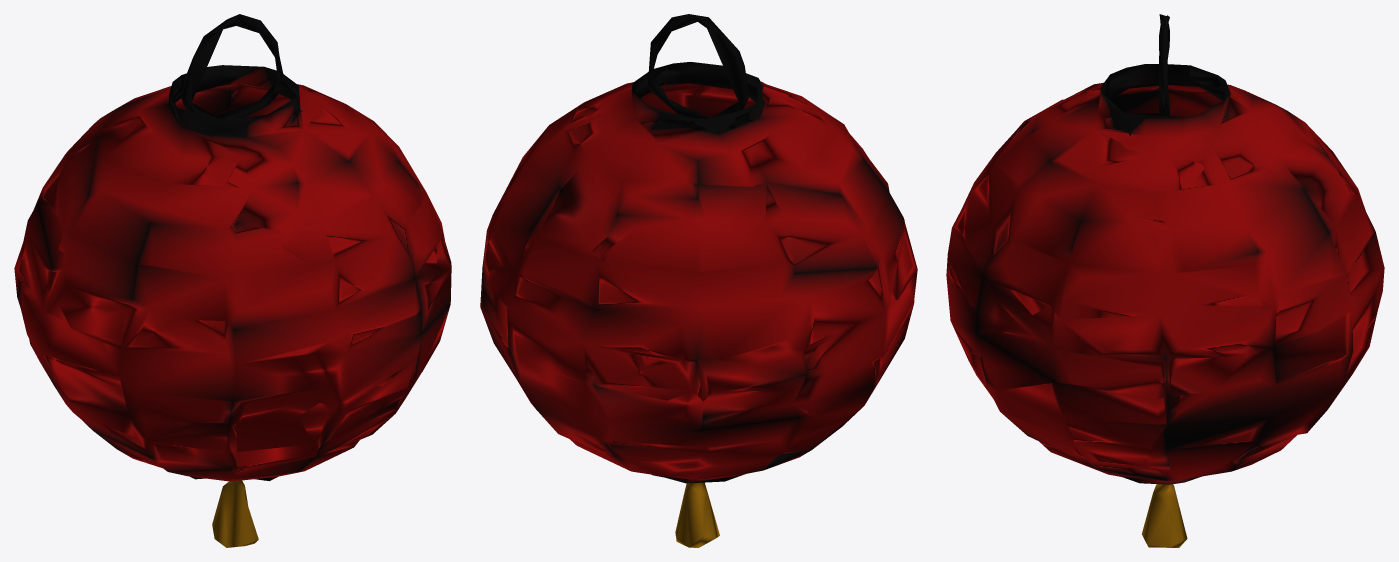
The model's file is gen3d-paper-lantern-lod1.glb.
3 views of the same model, side by side, from view 1: azimuth 30°, elevation 25°; view 2: azimuth 150°, elevation 25°; view 3: azimuth 270°, elevation 25° (orthographic).
Parts seen in each view (by area): view 1: part_0; view 2: part_0; view 3: part_0.
Part boxes in pixels (box(x1,y1,x2,y2)): part_0: box(14, 14, 451, 547); part_0: box(480, 14, 917, 547); part_0: box(946, 14, 1384, 547).
Bounding box in the file's own units: 0.7513 × 0.9963 × 0.7528.
